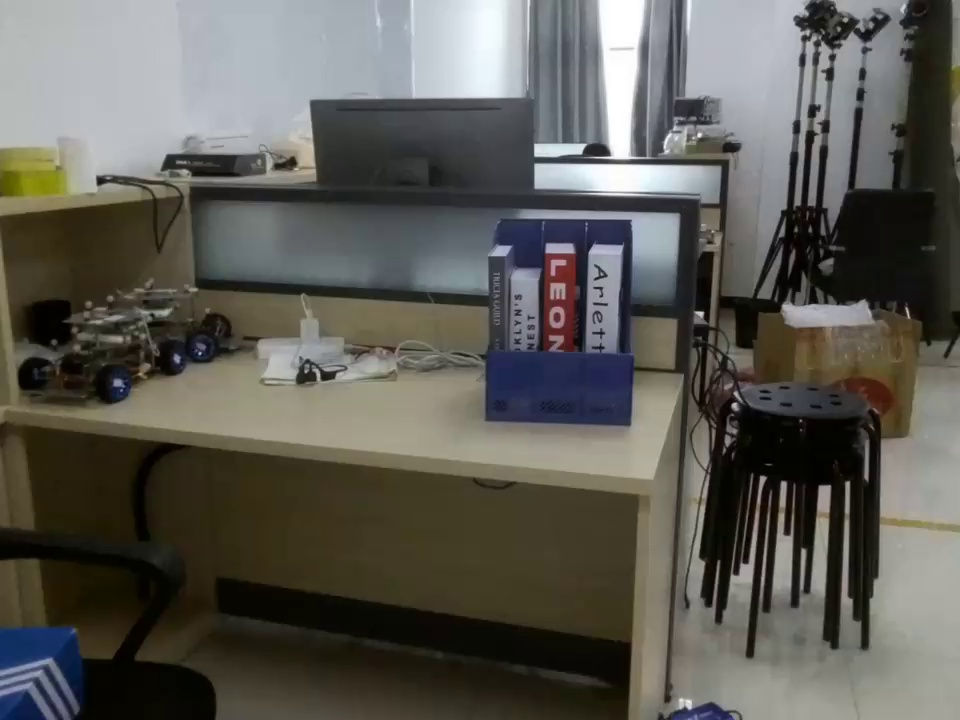files: (482, 214, 638, 429)
